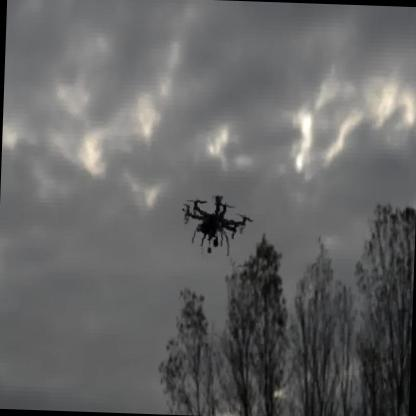drone: (179, 192, 255, 267)
